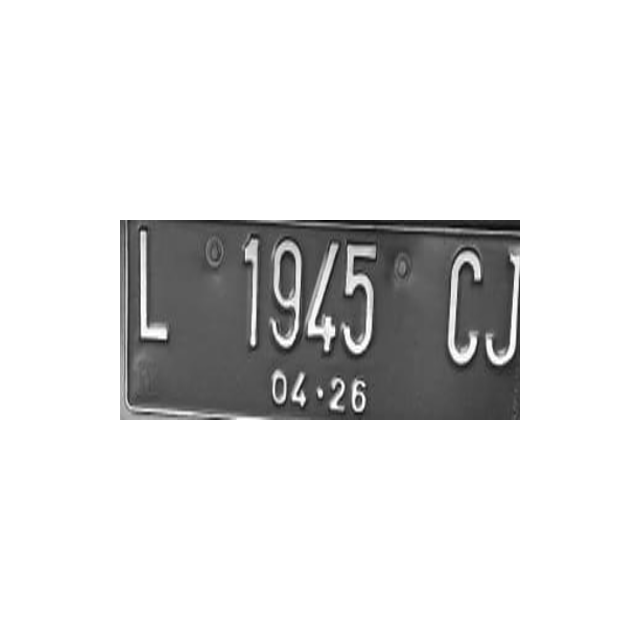contain: (133, 226, 170, 348), (226, 228, 263, 350), (267, 229, 304, 351), (302, 231, 339, 353), (341, 235, 378, 357), (445, 246, 482, 368), (482, 247, 519, 369)
